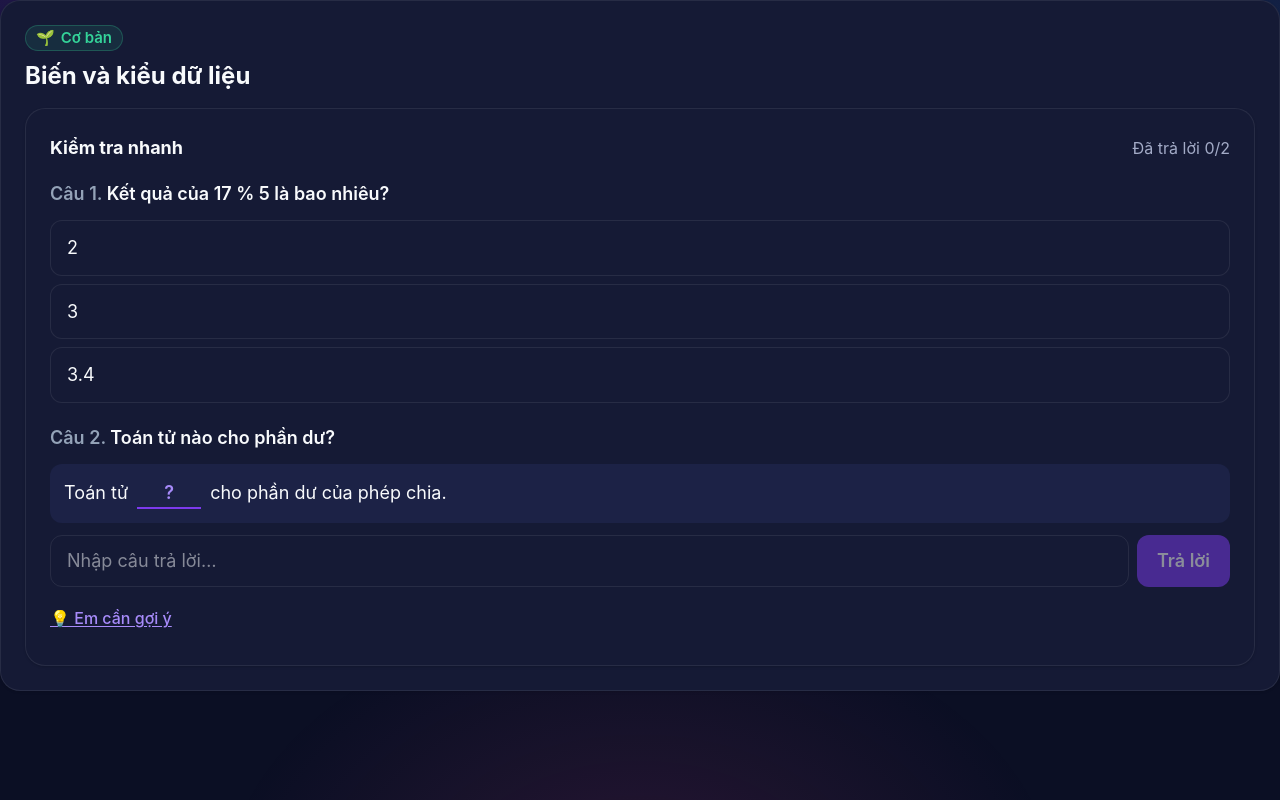
Test: Bài trắc nghiệm › trả lời đúng thì khen, không chỉ báo "đúng"
Click the button "2": (72, 247) top-left (50, 220), bottom-right (1230, 276)
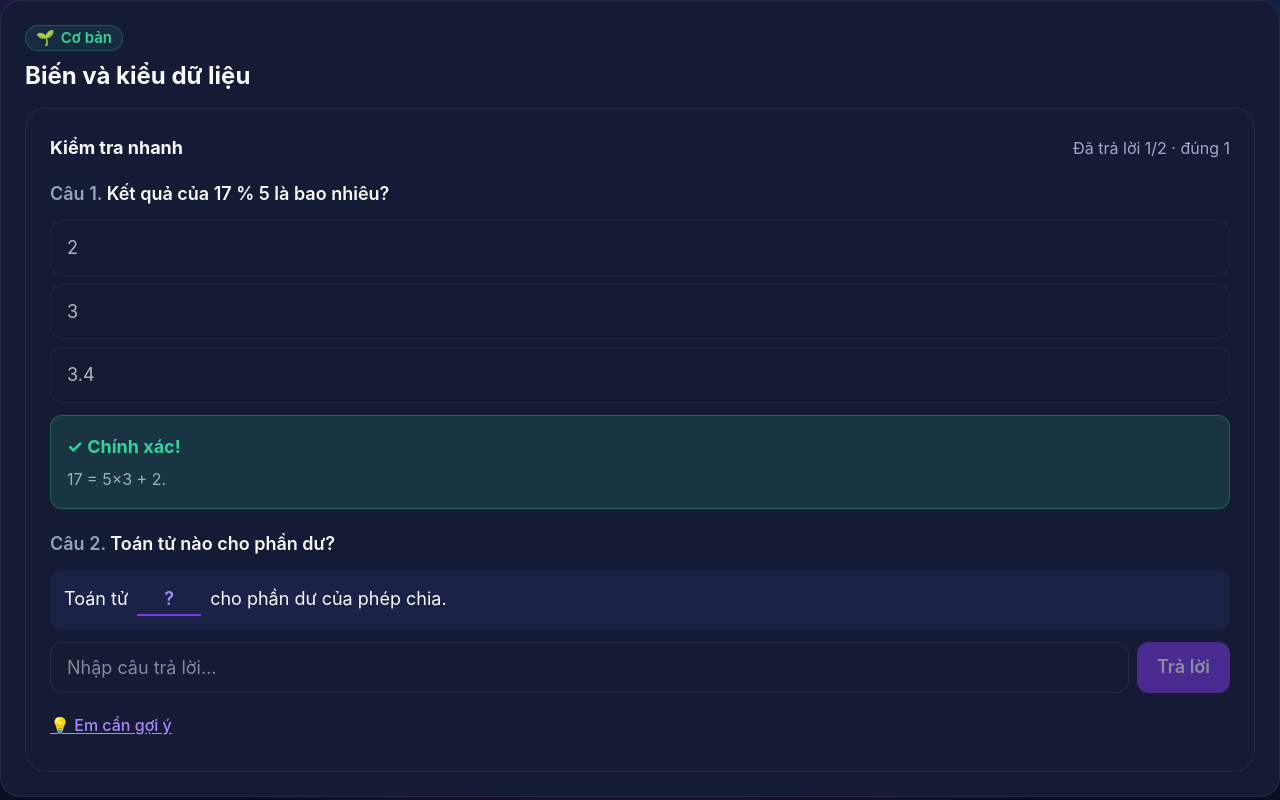
Result: the text "✓ Chính xác!" is shown at top-left (67, 436), bottom-right (181, 457)
Result: the text "17 = 5×3 + 2." is shown at top-left (67, 469), bottom-right (166, 489)
